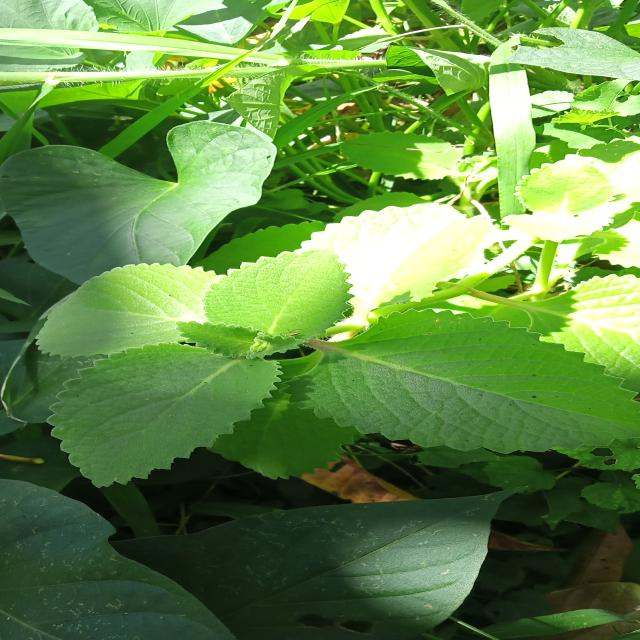Oregano: (21, 246, 640, 497)
